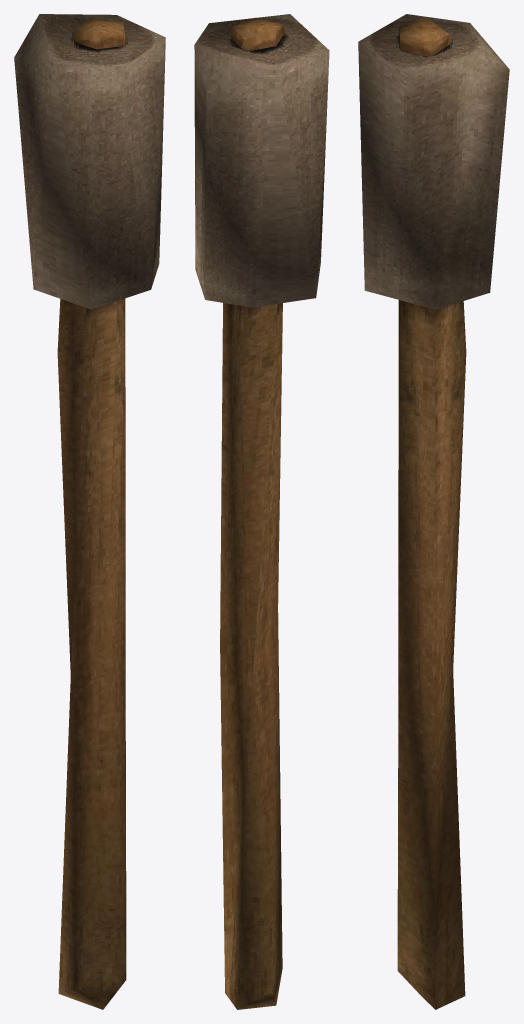
File: bettertorch.glb
The picture shows the model from 3 angles, left to right: view 1: azimuth 90°, elevation 25°; view 2: azimuth 150°, elevation 25°; view 3: azimuth 270°, elevation 25°; orthographic projection.
Parts seen in each view (by area): view 1: torch; view 2: torch; view 3: torch.
Part boxes in pixels (x1=…): torch: x1=14, y1=14, x2=165, y2=1009; torch: x1=194, y1=14, x2=329, y2=1009; torch: x1=358, y1=14, x2=509, y2=1009.
Bounding box in the file's own units: 0.0558 × 0.4354 × 0.0611.
1 material, 1 textured.
